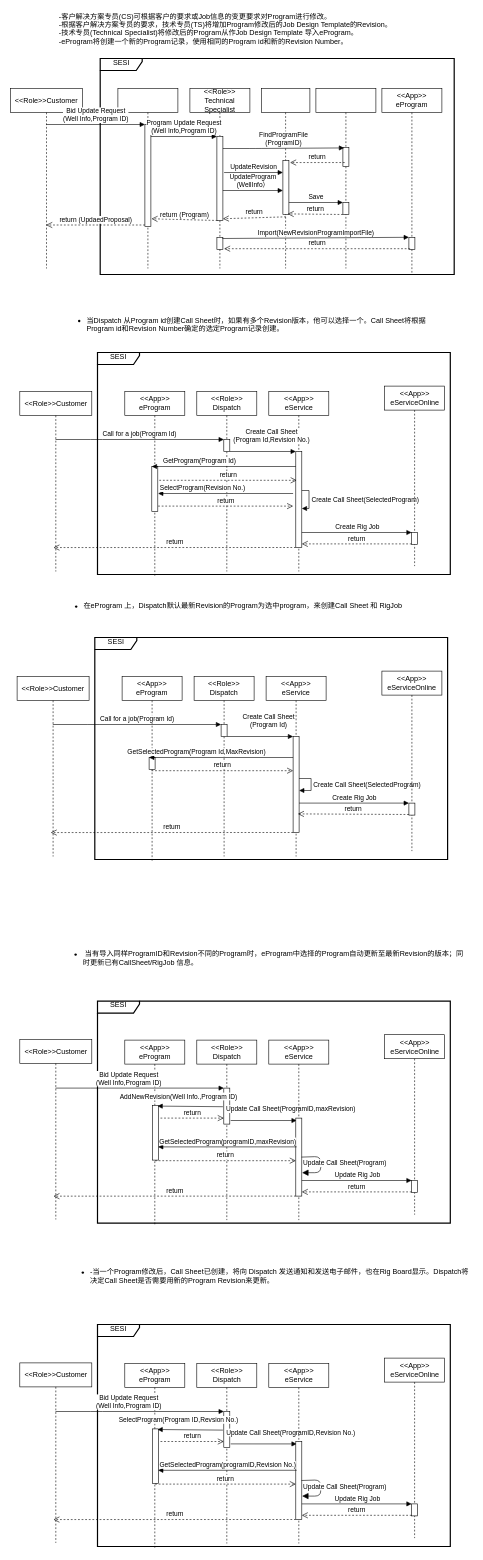
This 483x1560 diagram has some shape labels left out. The shapes that lost their labels are listed below. From the top down, each one's box as (x1, y1, x2, y2) in pixels, then its label:
(117, 88, 178, 268): <<Role>> Client Solution
(261, 88, 310, 268): <<Excel>> Job Design Template
(315, 88, 376, 268): <<Dummy>> ProgramImportFile
